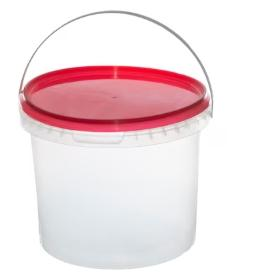SEAU: (14, 5, 231, 272)
